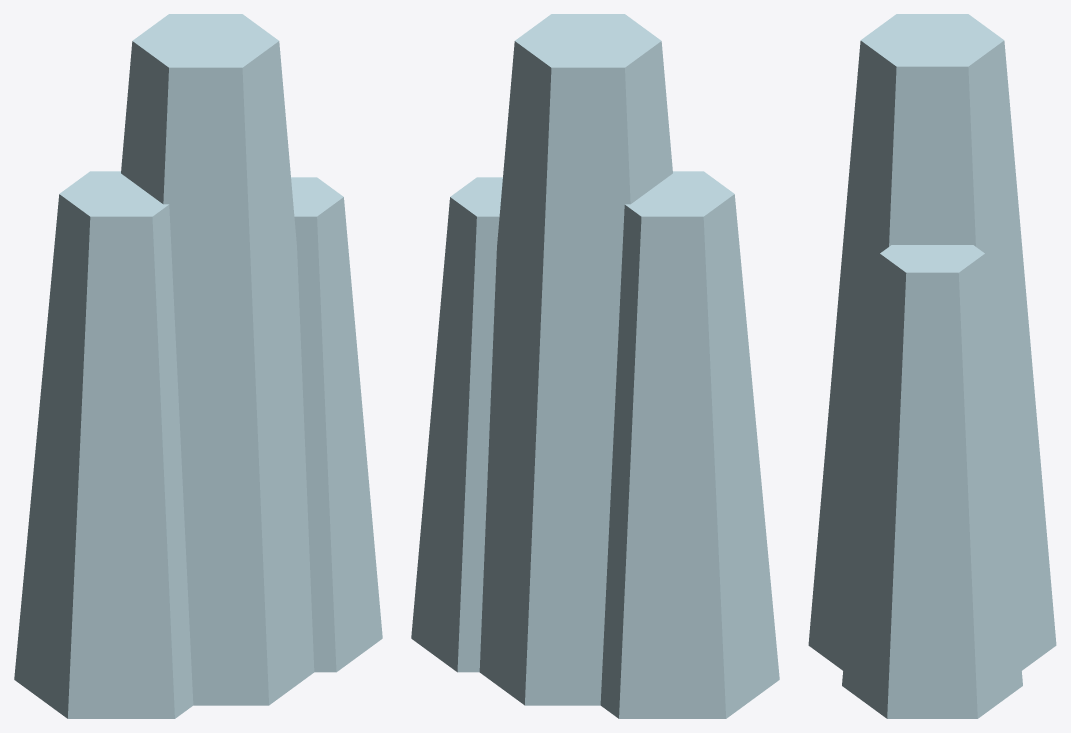
Rendered from blue_icefall_far-BKCGjYxb.glb.
The picture shows the model from 3 angles, left to right: view 1: azimuth 30°, elevation 25°; view 2: azimuth 150°, elevation 25°; view 3: azimuth 270°, elevation 25°; orthographic projection. The views are drawn at different scales.
Parts seen in each view (by area): view 1: blue_icefall_far; view 2: blue_icefall_far; view 3: blue_icefall_far.
Part boxes in pixels (x1,y1,x2,y2): blue_icefall_far: (14,14,382,718); blue_icefall_far: (411,14,779,718); blue_icefall_far: (808,14,1056,718).
Size of the model in its own units: 15.1 by 28 by 10.4.
